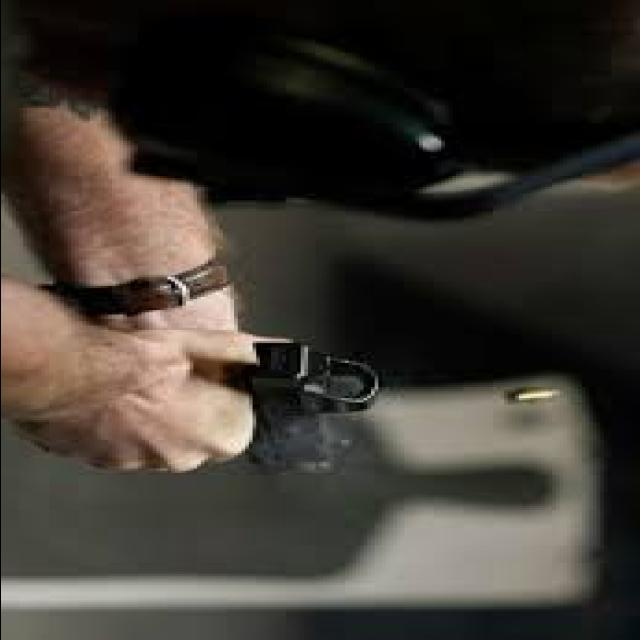weapons: (96, 328, 396, 492)
